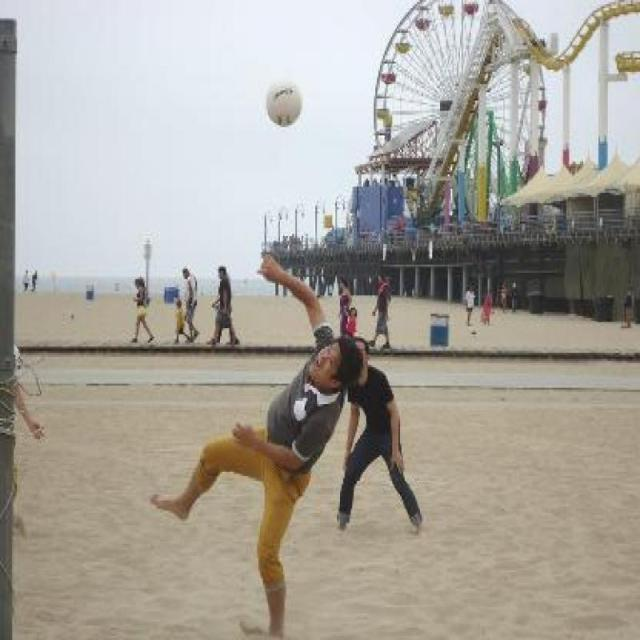volleyball: (266, 80, 302, 127)
